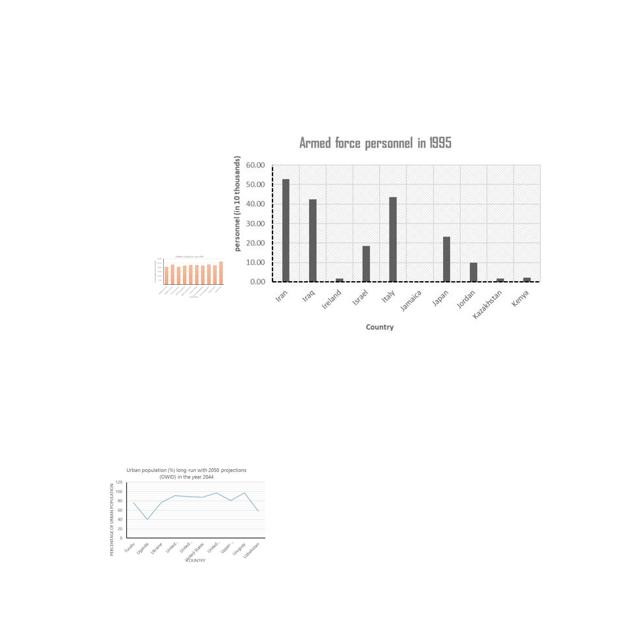Graph: (228, 130, 545, 338), (107, 466, 268, 563), (154, 255, 225, 298)
